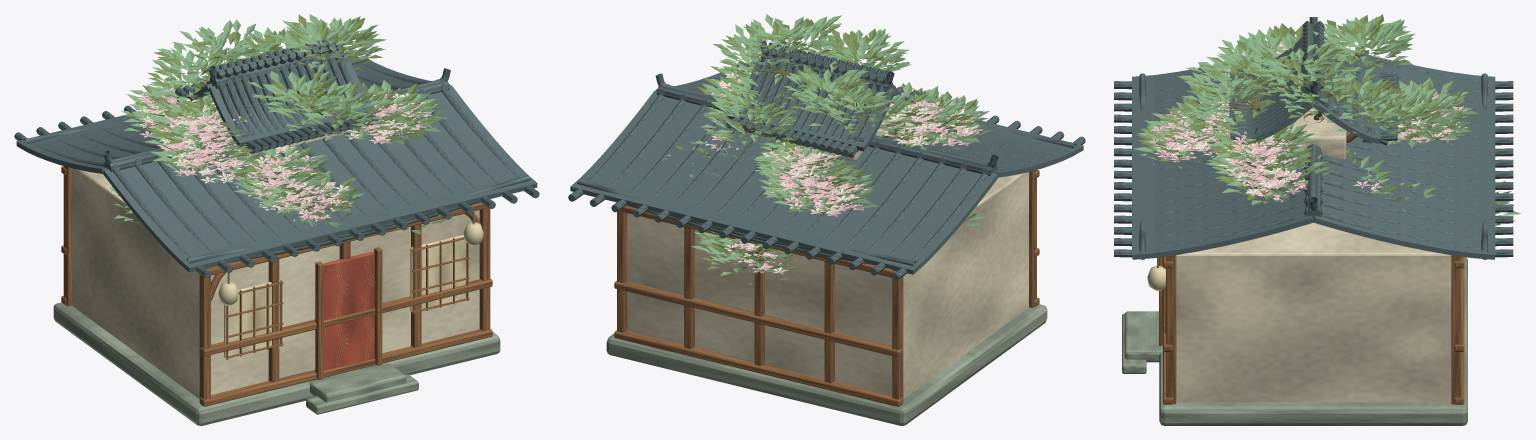
File: WindflowerRemake.fbx
3 renders of one model, left to right at view 1: azimuth 30°, elevation 25°; view 2: azimuth 150°, elevation 25°; view 3: azimuth 270°, elevation 25°, orthographic. The views are drawn at different scales.
Visible parts, largest first — view 1: House_A_Mesh, Pine_A_Mesh, House_B_Mesh, Maple_A_Mesh, Cherry_A_Mesh, Cherry_B_Mesh; view 2: House_A_Mesh, Pine_A_Mesh, House_B_Mesh, Maple_A_Mesh, Cherry_B_Mesh, Cherry_A_Mesh; view 3: House_A_Mesh, Pine_A_Mesh, Maple_A_Mesh, House_B_Mesh, Cherry_B_Mesh, Cherry_A_Mesh.
Boxes of the visible parts, <box> form: House_A_Mesh: <box>14,53,539,425</box>; Pine_A_Mesh: <box>110,14,446,234</box>; House_B_Mesh: <box>175,37,378,155</box>; Maple_A_Mesh: <box>117,71,447,227</box>; Cherry_A_Mesh: <box>137,80,432,221</box>; Cherry_B_Mesh: <box>134,82,429,221</box>; House_A_Mesh: <box>568,61,1085,425</box>; Pine_A_Mesh: <box>674,14,985,285</box>; House_B_Mesh: <box>726,40,925,160</box>; Maple_A_Mesh: <box>665,52,992,271</box>; Cherry_B_Mesh: <box>705,73,980,273</box>; Cherry_A_Mesh: <box>693,68,983,273</box>; House_A_Mesh: <box>1114,52,1513,425</box>; Pine_A_Mesh: <box>1137,14,1521,225</box>; Maple_A_Mesh: <box>1133,23,1478,212</box>; House_B_Mesh: <box>1229,17,1397,159</box>; Cherry_B_Mesh: <box>1147,41,1467,202</box>; Cherry_A_Mesh: <box>1154,51,1467,201</box>.
Bounding box in the file's own units: 7.1 × 6.43 × 6.87.
